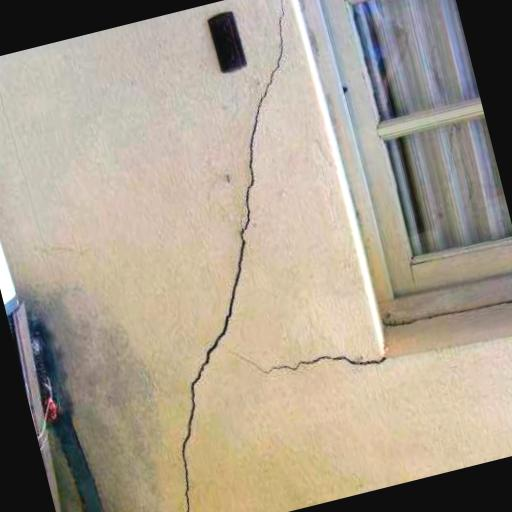spalling: (178, 13, 296, 512), (235, 346, 389, 383)
